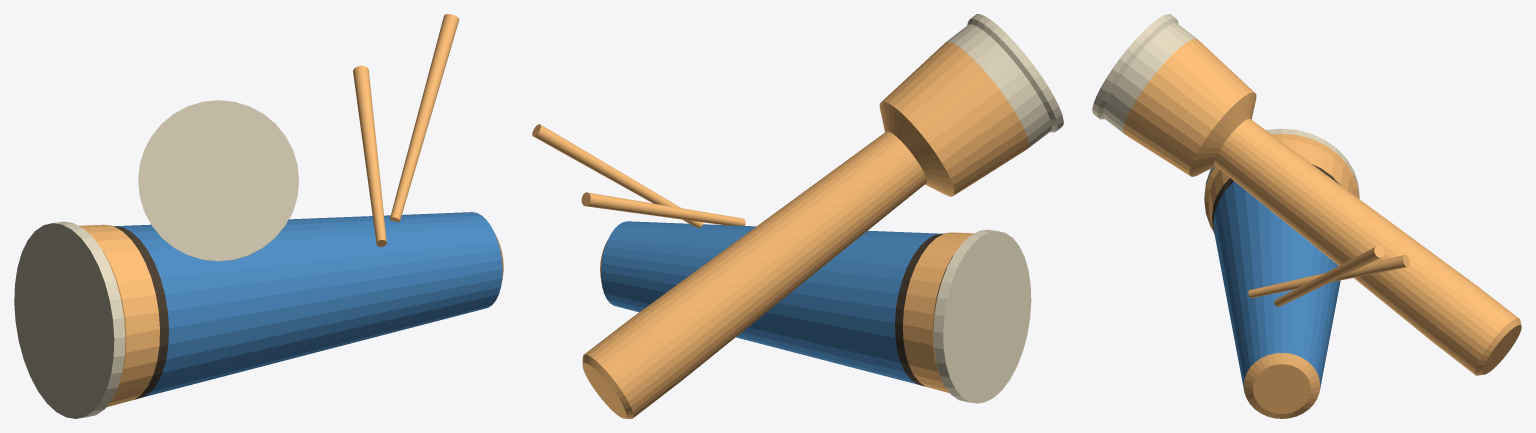
File: umbigada.gltf
3 renders of one model, left to right at view 1: azimuth 30°, elevation 25°; view 2: azimuth 150°, elevation 25°; view 3: azimuth 270°, elevation 25°, orthographic. The views are drawn at different scales.
Visible parts, largest first — view 1: Cylinder; view 2: Cylinder; view 3: Cylinder.
Boxes of the visible parts, bbox=[...] form: Cylinder: bbox=[14, 14, 503, 418]; Cylinder: bbox=[532, 14, 1063, 418]; Cylinder: bbox=[1092, 14, 1521, 418].
Bounding box in the file's own units: 2.47 × 1.79 × 2.52.
